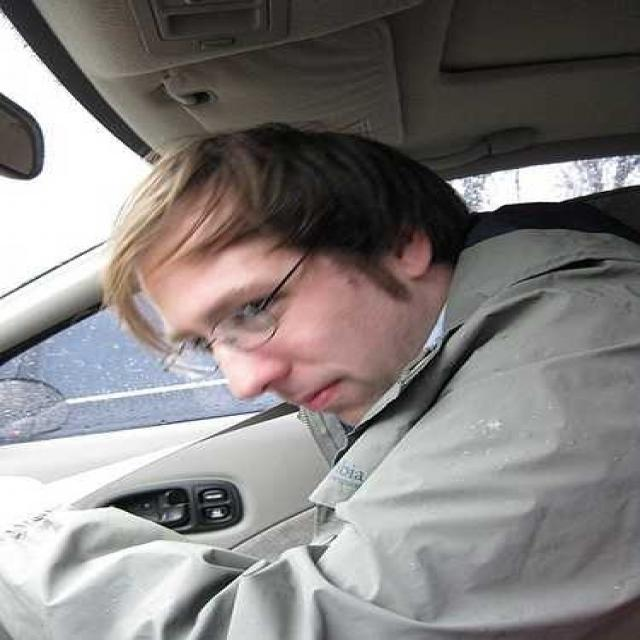seatbelt: (2, 397, 340, 532)
